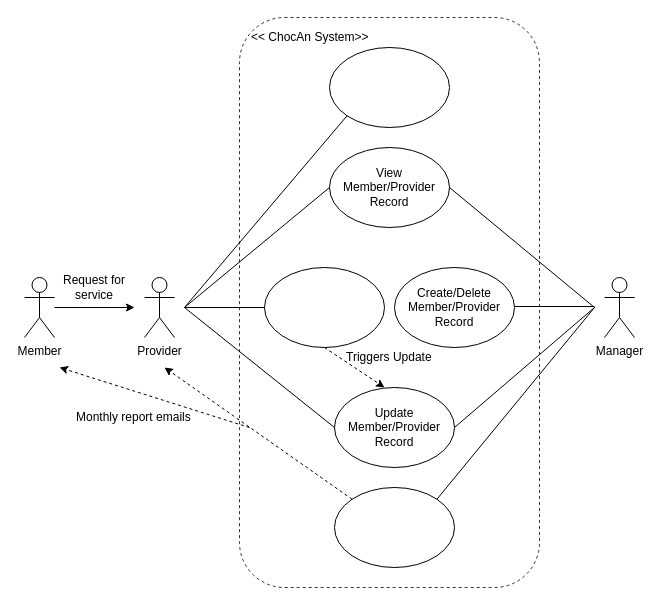
This 660x605 diagram has some shape labels left out. Here are the shapes that lost their labels. From the top down, the centre of each, then its label:
the point at 389,87: View Service Directory
the point at 324,307: Add Service Transaction
the point at 394,527: View Reports
